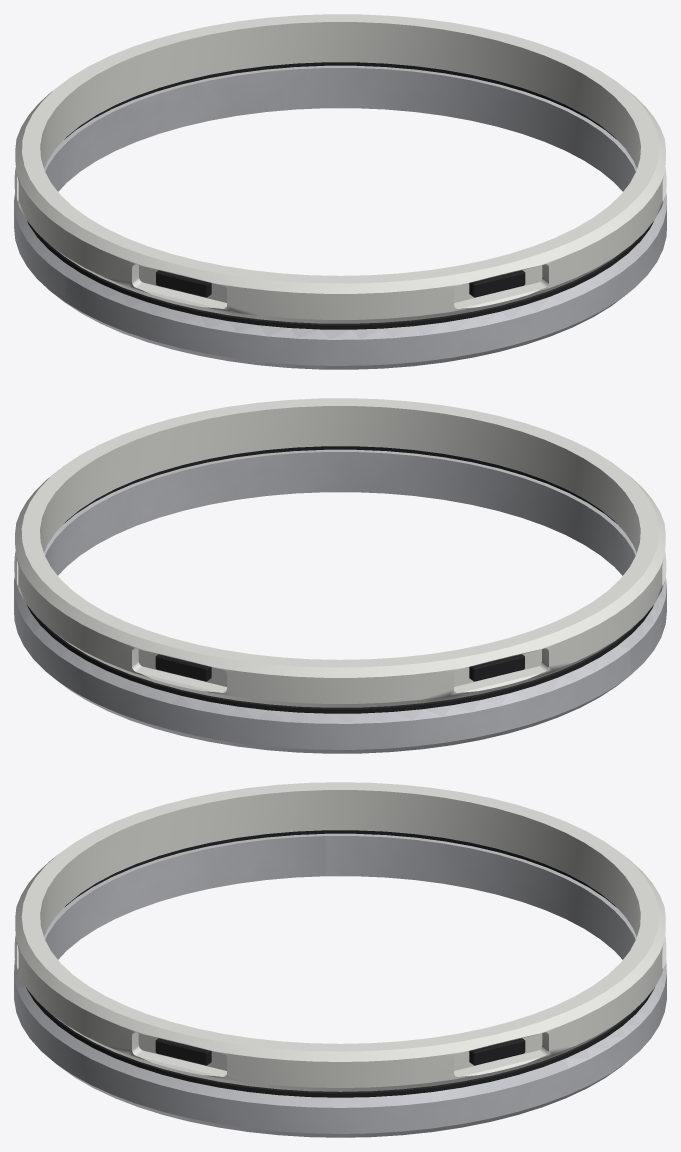
Rendered from ax_struct_06_stack_decoupler_s.glb.
The picture shows the model from 3 angles, top to bottom: view 1: azimuth 30°, elevation 25°; view 2: azimuth 150°, elevation 25°; view 3: azimuth 270°, elevation 25°; orthographic projection.
Parts seen in each view (by area): view 1: decoupler_upper_ring, decoupler_lower_ring, separation_plane, pyro_latches; view 2: decoupler_upper_ring, decoupler_lower_ring, separation_plane, pyro_latches; view 3: decoupler_upper_ring, decoupler_lower_ring, separation_plane, pyro_latches.
Boxes of the visible parts, bbox=[...] form: decoupler_upper_ring: bbox=[14, 14, 666, 323]; decoupler_lower_ring: bbox=[14, 65, 666, 369]; separation_plane: bbox=[27, 62, 653, 329]; pyro_latches: bbox=[156, 270, 525, 297]; decoupler_upper_ring: bbox=[14, 398, 666, 707]; decoupler_lower_ring: bbox=[14, 449, 666, 753]; separation_plane: bbox=[27, 446, 653, 713]; pyro_latches: bbox=[155, 654, 524, 681]; decoupler_upper_ring: bbox=[14, 782, 666, 1091]; decoupler_lower_ring: bbox=[14, 833, 666, 1137]; separation_plane: bbox=[26, 830, 654, 1097]; pyro_latches: bbox=[155, 1038, 525, 1065].
Bounding box in the file's own units: 1.25 × 0.182 × 1.25.
Materials: 3 (1 with a texture image).
